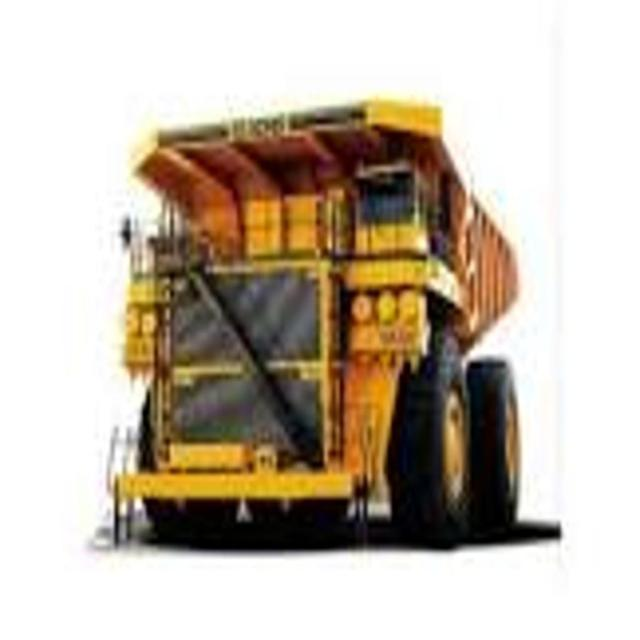dump_truck: (100, 80, 566, 564)
